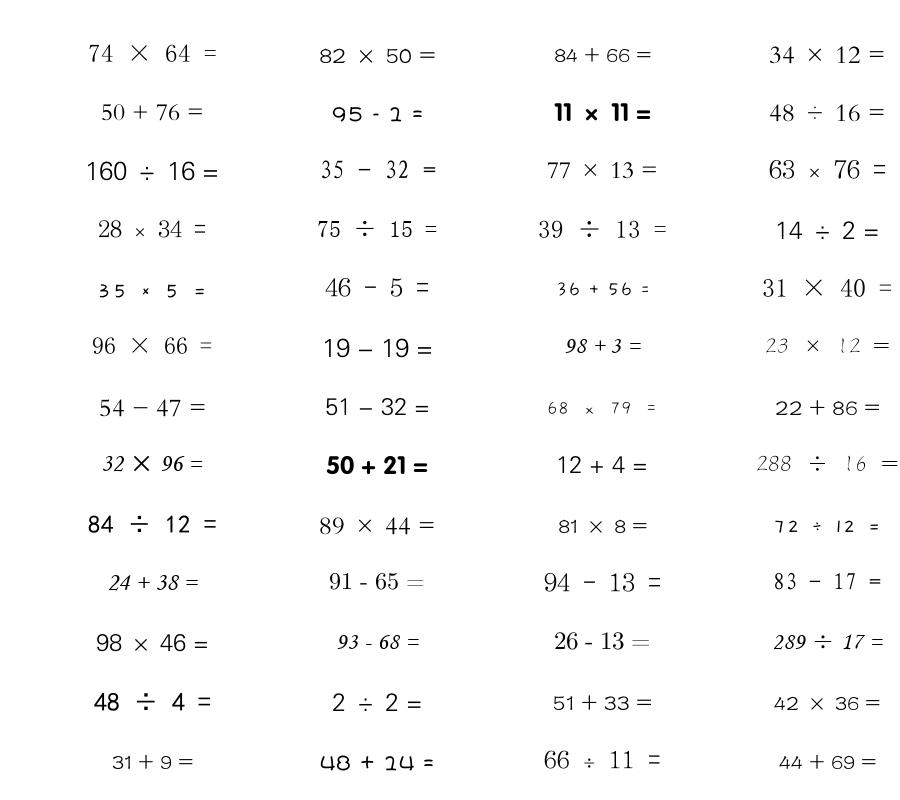MQ: (85, 161, 219, 181), (762, 278, 892, 297), (756, 455, 899, 472), (544, 572, 661, 592), (88, 44, 217, 62), (538, 220, 667, 238), (88, 515, 217, 533), (319, 160, 436, 179), (769, 160, 886, 179), (94, 692, 211, 711), (544, 750, 661, 769), (322, 338, 433, 358), (96, 633, 209, 652), (769, 46, 885, 64), (769, 104, 885, 122), (319, 517, 435, 535), (317, 220, 437, 237), (92, 337, 212, 354), (326, 455, 428, 475), (765, 338, 890, 354), (325, 278, 429, 297), (98, 220, 206, 238), (773, 572, 881, 590), (99, 399, 206, 417), (325, 398, 430, 416), (547, 162, 658, 179), (775, 221, 879, 239), (320, 755, 434, 771), (775, 399, 880, 416), (772, 634, 883, 650), (319, 48, 436, 63), (101, 104, 204, 121), (554, 103, 651, 121), (101, 455, 203, 472), (329, 572, 425, 590), (554, 632, 650, 650), (553, 694, 652, 711), (332, 693, 422, 711), (774, 696, 880, 711), (556, 456, 648, 473), (547, 401, 658, 415), (554, 47, 651, 63), (779, 754, 876, 770), (107, 574, 198, 591), (97, 284, 207, 298), (332, 106, 423, 122), (555, 282, 650, 297), (773, 520, 881, 533), (112, 754, 193, 770), (558, 519, 647, 533), (336, 635, 419, 649), (564, 339, 641, 353)
